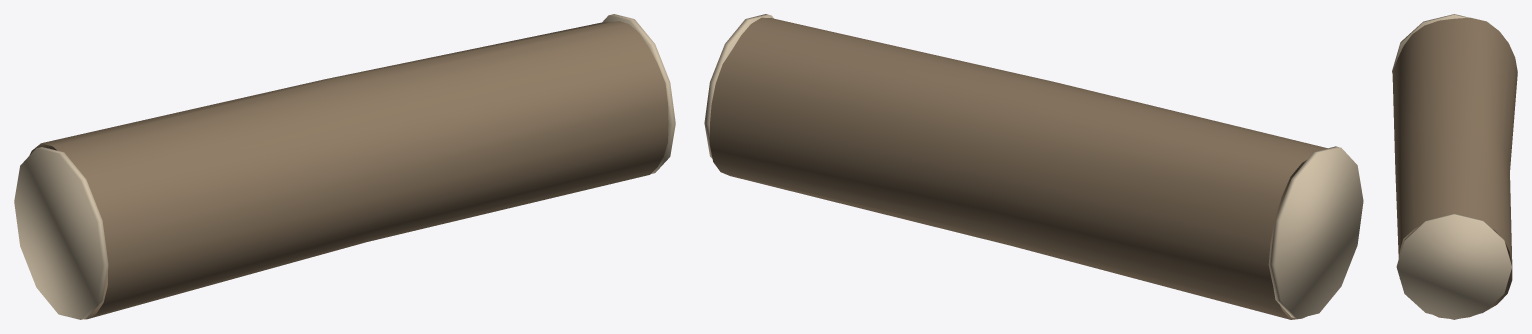
The model's file is rail_log_1.glb.
3 renders of one model, left to right at view 1: azimuth 30°, elevation 25°; view 2: azimuth 150°, elevation 25°; view 3: azimuth 270°, elevation 25°, orthographic. The views are drawn at different scales.
Parts seen in each view (by area): view 1: g_bark, g_endgrain; view 2: g_bark, g_endgrain; view 3: g_bark, g_endgrain.
Boxes of the visible parts, x1,y1,x2,y2 form: g_bark: [29, 21, 668, 319]; g_endgrain: [14, 14, 675, 319]; g_bark: [709, 17, 1327, 319]; g_endgrain: [704, 14, 1363, 318]; g_bark: [1392, 17, 1517, 318]; g_endgrain: [1392, 14, 1511, 319].
Bounding box in the file's own units: 1.02 × 0.2749 × 0.2746.
